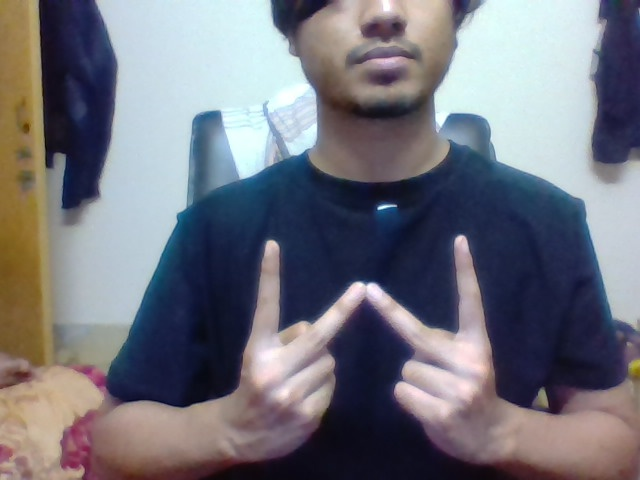W: (249, 230, 489, 348)
